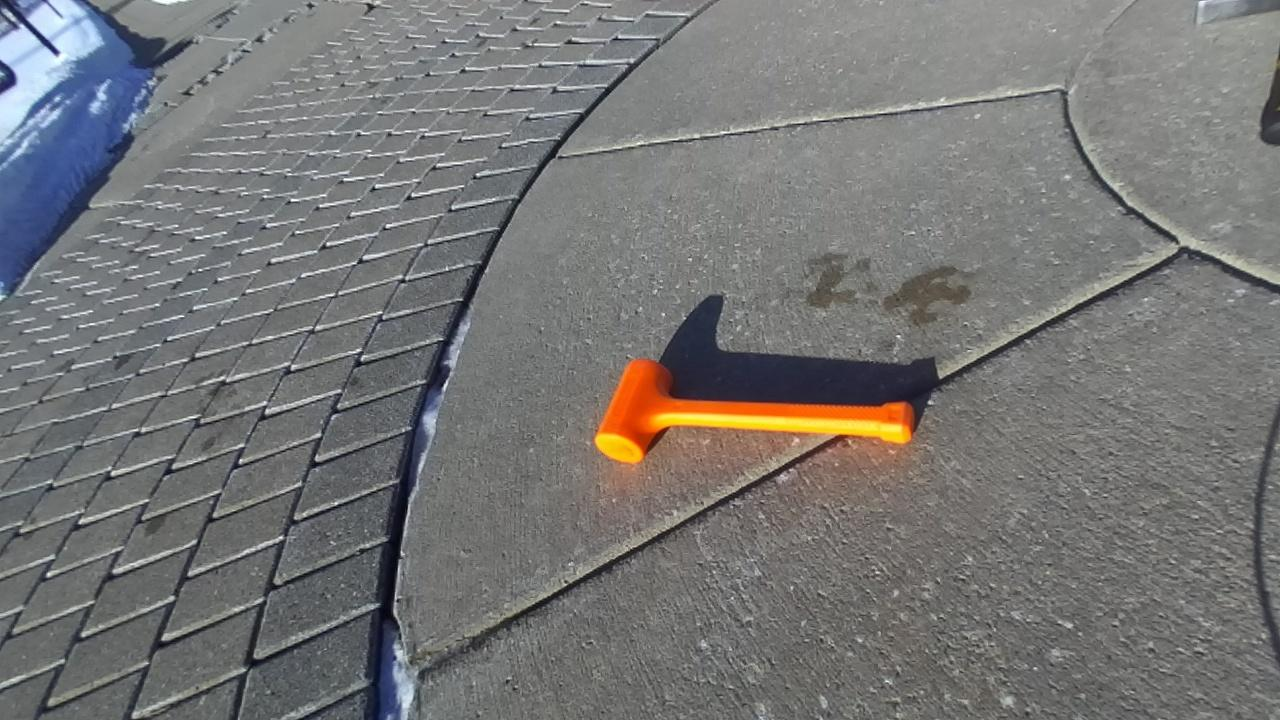mallet: (595, 359, 914, 462)
